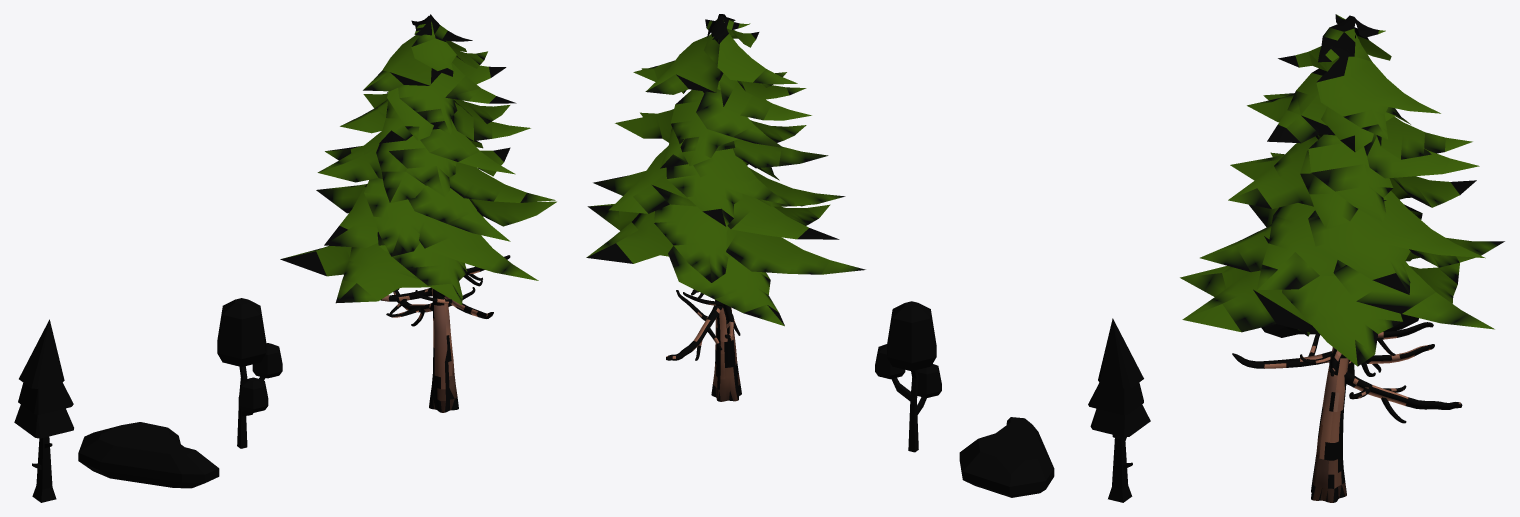
The model's file is Forest.fbx.
The picture shows the model from 3 angles, left to right: view 1: azimuth 30°, elevation 25°; view 2: azimuth 150°, elevation 25°; view 3: azimuth 270°, elevation 25°; orthographic projection. The views are drawn at different scales.
Visible parts, largest first — view 1: Forest_GiantPine, Forest_Rock, Forest_Pine, Forest_Birch; view 2: Forest_GiantPine, Forest_Rock, Forest_Pine, Forest_Birch; view 3: Forest_GiantPine, Forest_Rock.
Part boxes in pixels (x1,y1,x2,y2): Forest_GiantPine: [280, 14, 556, 412]; Forest_Rock: [78, 422, 219, 488]; Forest_Pine: [14, 319, 73, 502]; Forest_Birch: [217, 298, 282, 448]; Forest_GiantPine: [586, 14, 865, 401]; Forest_Rock: [959, 417, 1054, 497]; Forest_Pine: [1088, 318, 1150, 502]; Forest_Birch: [875, 301, 941, 452]; Forest_GiantPine: [1180, 14, 1504, 502]; Forest_Rock: [1261, 314, 1418, 337].
Size of the model in its own units: 70.3 by 48 by 29.77.
Materials: 4 (4 with a texture image).
